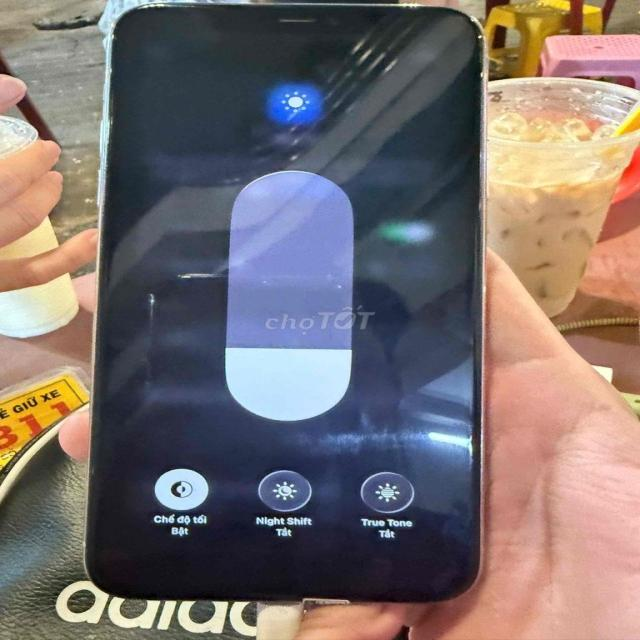gen_11: (83, 1, 500, 605)
